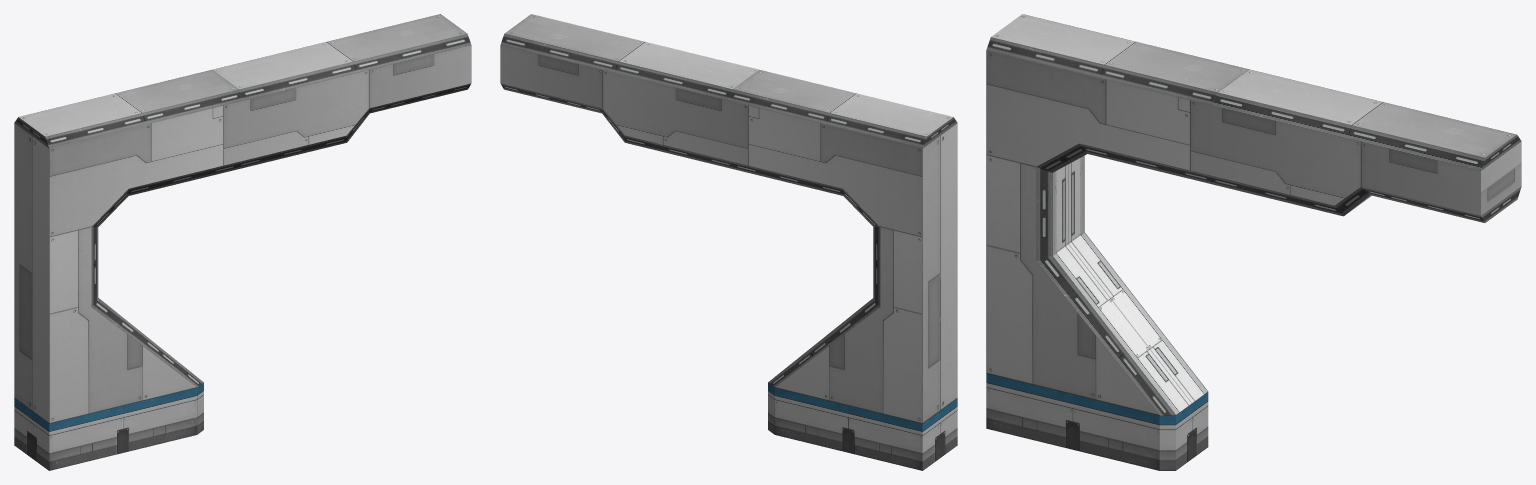
File: Ext_Door_Big_01.FBX
3 renders of one model, left to right at view 1: azimuth 30°, elevation 25°; view 2: azimuth 150°, elevation 25°; view 3: azimuth 330°, elevation 25°, orthographic. The views are drawn at different scales.
Parts seen in each view (by area): view 1: Ext_Door_Big_01; view 2: Ext_Door_Big_01; view 3: Ext_Door_Big_01.
Boxes of the visible parts, x1,y1,x2,y2 form: Ext_Door_Big_01: (14, 14, 471, 470); Ext_Door_Big_01: (500, 14, 957, 470); Ext_Door_Big_01: (986, 14, 1521, 470).
Size of the model in its own units: 560 by 420 by 79.8.
